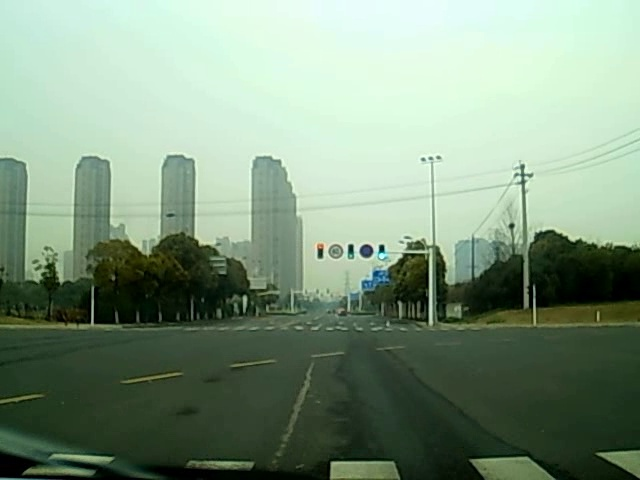Traffic_Light_go: (378, 244, 385, 261), (348, 244, 354, 258)
Traffic_Light_stop: (317, 242, 323, 260)
